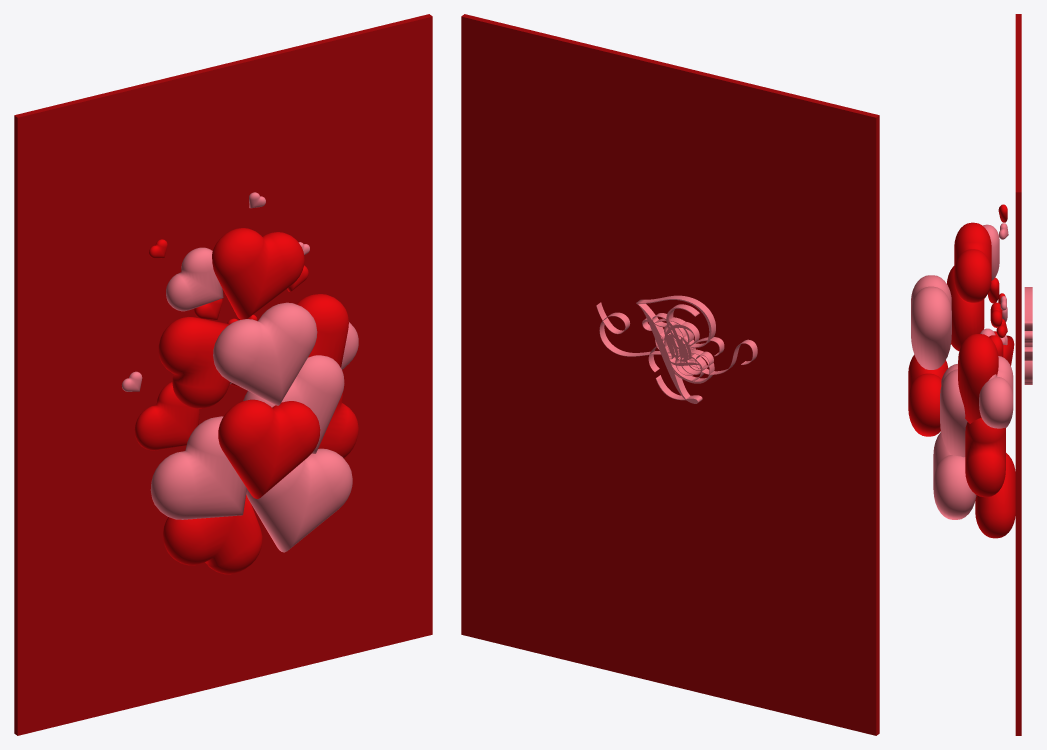
Rendered from hearts_of_jaan_anim_1.gltf.
3 renders of one model, left to right at view 1: azimuth 30°, elevation 25°; view 2: azimuth 150°, elevation 25°; view 3: azimuth 270°, elevation 25°, orthographic. The views are drawn at different scales.
Visible parts, largest first — view 1: base, heartOriginal.020, heartOriginal.015, heartOriginal.024, heartOriginal.023, heartOriginal.002, heartOriginal.018, heartOriginal.011, heartOriginal.021, heartOriginal.013, heartOriginal.025, heartOriginal.019 (+1 smaller); view 2: base, Curve.025, Curve.027, Curve.018; view 3: base, heartOriginal.020, heartOriginal.016, heartOriginal.002, heartOriginal.019, heartOriginal.023, heartOriginal.015, heartOriginal.018, heartOriginal.021, heartOriginal.022, heartOriginal.011, heartOriginal.025 (+5 smaller).
Boxes of the visible parts, <box> form: base: <box>14,14,432,735</box>; heartOriginal.020: <box>213,302,317,405</box>; heartOriginal.015: <box>218,399,320,499</box>; heartOriginal.024: <box>150,416,246,519</box>; heartOriginal.023: <box>246,448,352,552</box>; heartOriginal.002: <box>212,228,304,319</box>; heartOriginal.018: <box>163,495,262,574</box>; heartOriginal.011: <box>158,317,230,408</box>; heartOriginal.021: <box>243,355,344,453</box>; heartOriginal.013: <box>134,382,199,450</box>; heartOriginal.025: <box>166,247,223,311</box>; heartOriginal.019: <box>296,294,348,367</box>; base: <box>461,14,879,735</box>; Curve.025: <box>636,295,715,403</box>; Curve.027: <box>596,302,757,374</box>; Curve.018: <box>642,318,714,383</box>; base: <box>1015,14,1021,735</box>; heartOriginal.020: <box>911,275,951,369</box>; heartOriginal.016: <box>965,418,1005,497</box>; heartOriginal.002: <box>954,222,991,303</box>; heartOriginal.019: <box>958,334,998,423</box>; heartOriginal.023: <box>933,432,976,519</box>; heartOriginal.015: <box>908,354,948,436</box>; heartOriginal.018: <box>975,453,1015,538</box>; heartOriginal.021: <box>940,364,967,457</box>; heartOriginal.022: <box>979,356,1013,428</box>; heartOriginal.011: <box>947,266,984,350</box>; heartOriginal.025: <box>983,224,999,280</box>.
Size of what is drawn, in the model's own units: 3.51 by 4.99 by 1.04.
